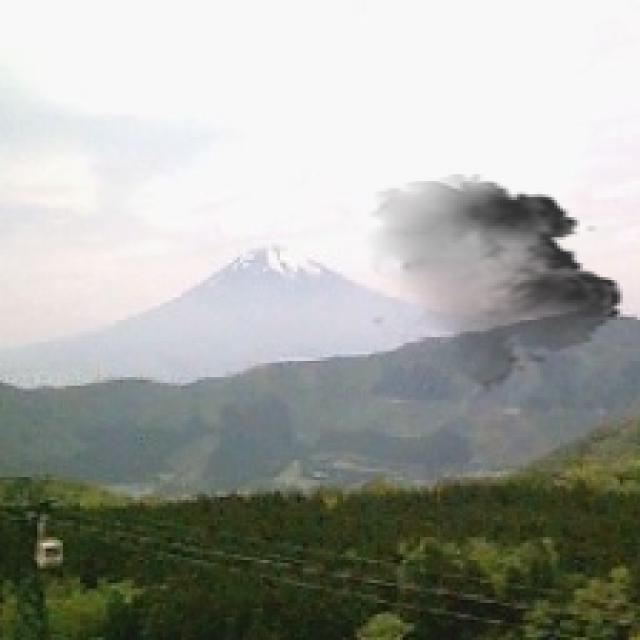Smoke: (357, 174, 634, 394)
